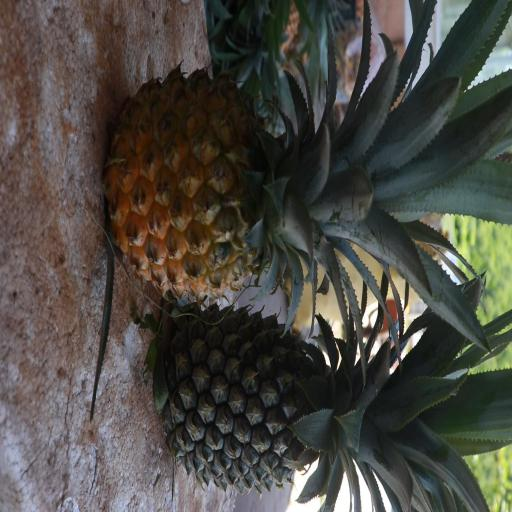Pineapple - v8 v1: (116, 81, 457, 299)
